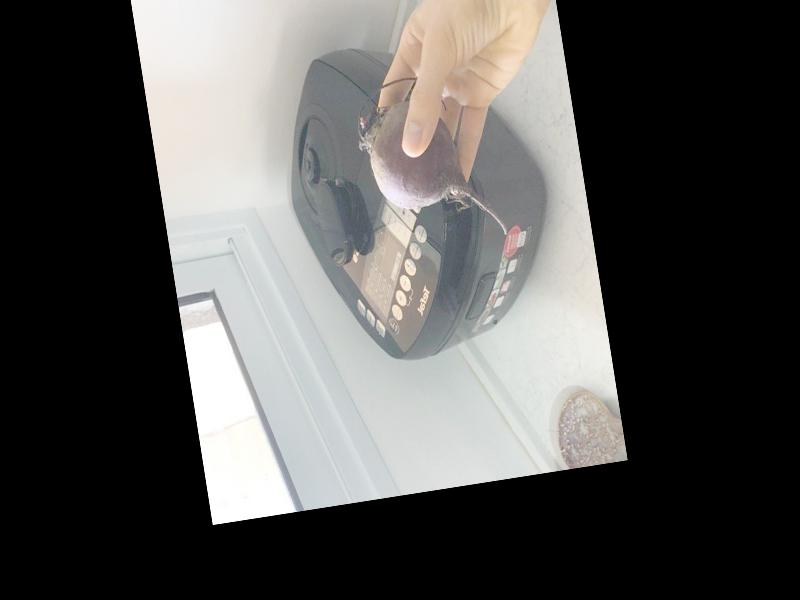Beet: (350, 67, 509, 254)
